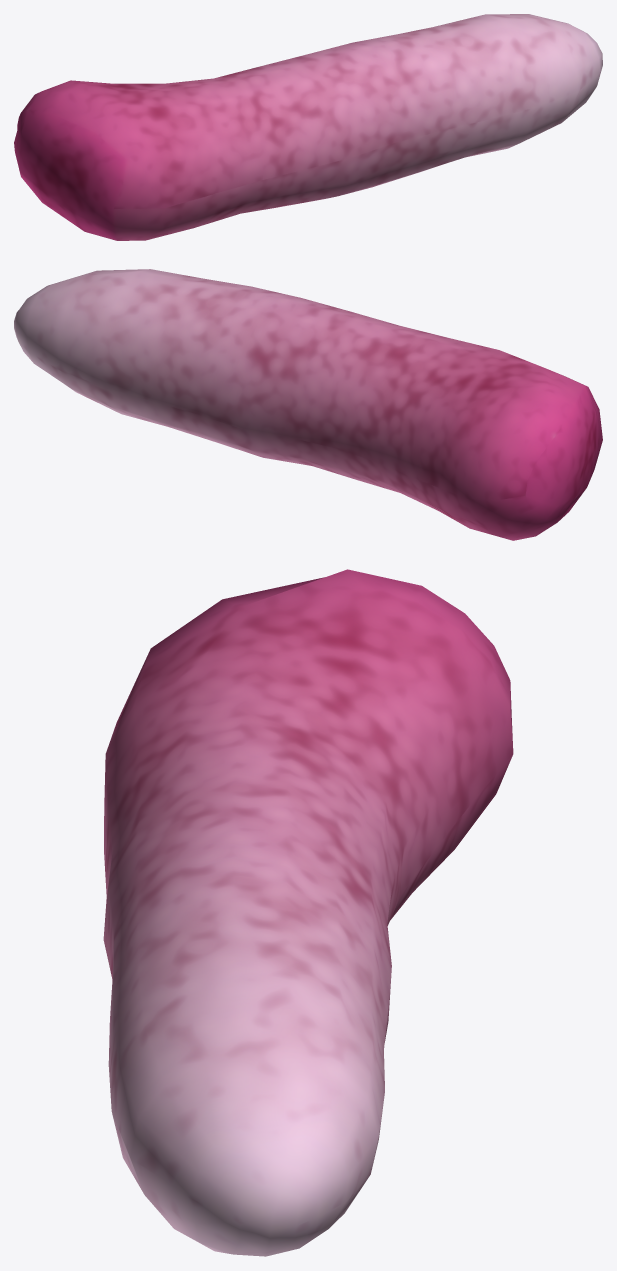
The model's file is StrangeRock_low.fbx.
The picture shows the model from 3 angles, top to bottom: view 1: azimuth 30°, elevation 25°; view 2: azimuth 150°, elevation 25°; view 3: azimuth 270°, elevation 25°; orthographic projection. The views are drawn at different scales.
Parts seen in each view (by area): view 1: StrangeRock_Low; view 2: StrangeRock_Low; view 3: StrangeRock_Low.
Boxes of the visible parts, <box> form: StrangeRock_Low: <box>14,14,602,240</box>; StrangeRock_Low: <box>14,269,602,540</box>; StrangeRock_Low: <box>103,569,513,1256</box>.
Size of the model in its own units: 6156 by 1510 by 2004.
Materials: 1 (1 with a texture image).
